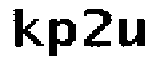2: (80, 7, 112, 48)
k: (10, 5, 44, 51)
p: (46, 16, 78, 60)
u: (116, 14, 148, 52)
